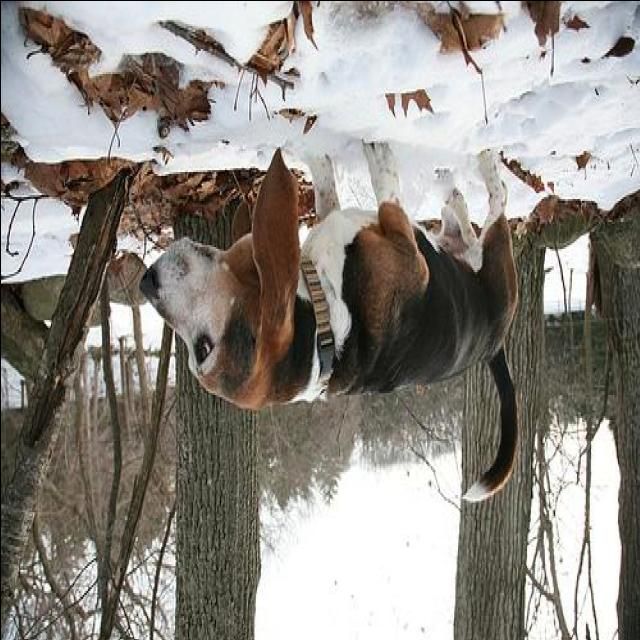basset: (141, 131, 523, 509)
